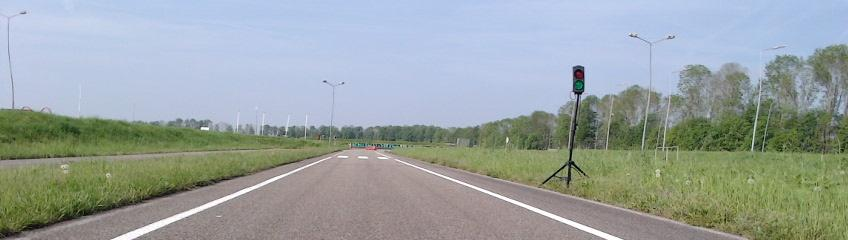TrafficLight-green: (573, 66, 584, 93)
